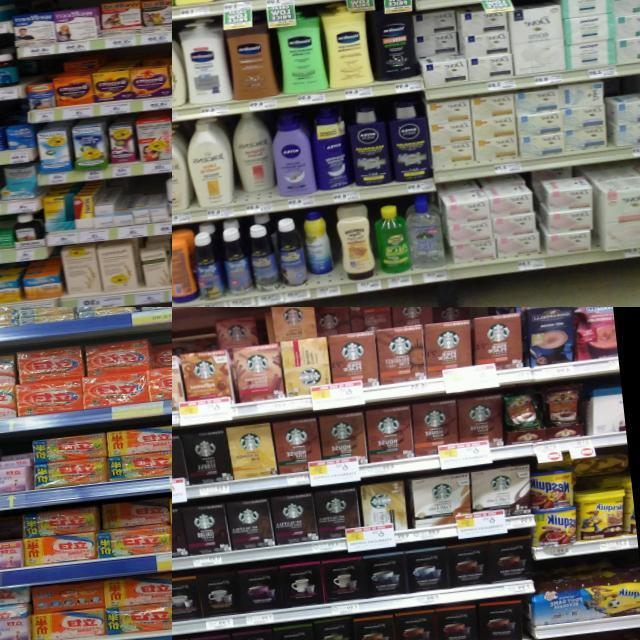Imprecise: (274, 306, 424, 388), (577, 450, 640, 536), (222, 316, 282, 406), (302, 205, 336, 285)
